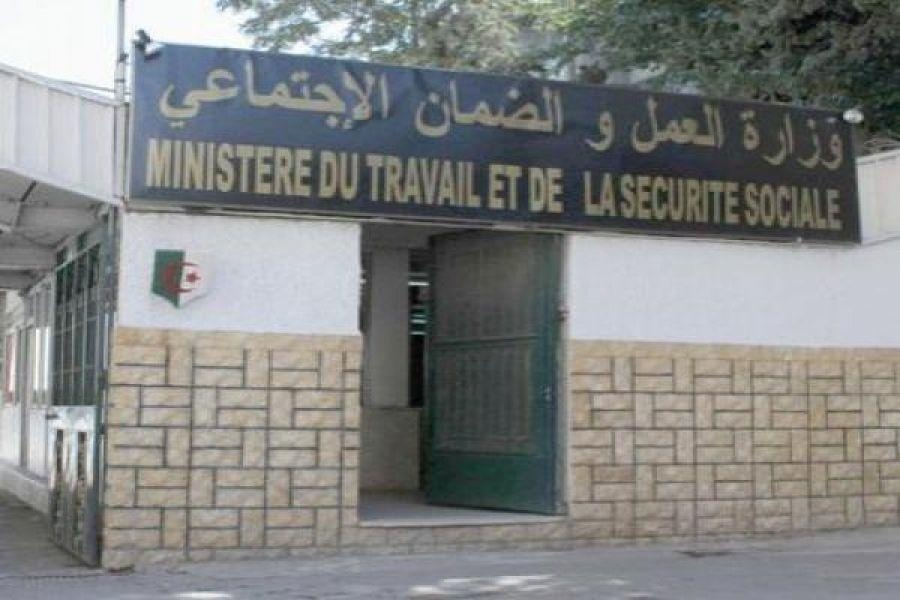text: (161, 52, 176, 135), (177, 52, 192, 135), (193, 52, 208, 135), (209, 52, 224, 135), (225, 52, 240, 135), (241, 52, 256, 135), (257, 52, 272, 135), (273, 52, 288, 135), (289, 52, 304, 135), (305, 52, 320, 135), (321, 52, 336, 135), (337, 52, 352, 135), (353, 52, 368, 135), (369, 52, 384, 135), (417, 72, 432, 139), (433, 72, 448, 139), (449, 72, 464, 139), (465, 72, 480, 139), (481, 72, 496, 139), (497, 72, 512, 139), (513, 72, 528, 139), (529, 72, 544, 139), (545, 72, 560, 139), (145, 135, 160, 201), (161, 135, 176, 201), (177, 135, 192, 201), (193, 135, 208, 201), (209, 135, 224, 201), (225, 135, 240, 201), (241, 135, 256, 201), (257, 135, 272, 201), (273, 135, 288, 201), (289, 135, 304, 201), (737, 107, 752, 173), (753, 107, 768, 173), (769, 107, 784, 173), (785, 107, 800, 173), (801, 107, 816, 173), (817, 107, 832, 173), (833, 107, 848, 173), (641, 94, 656, 157), (657, 94, 672, 157), (673, 94, 688, 157), (689, 94, 704, 157), (705, 94, 720, 157), (385, 52, 395, 135), (625, 171, 640, 226), (641, 171, 656, 226), (657, 171, 672, 226), (673, 171, 688, 226), (689, 171, 704, 226), (705, 171, 720, 226), (721, 171, 736, 226), (369, 153, 384, 207), (385, 153, 400, 207), (401, 153, 416, 207), (417, 153, 432, 207), (433, 153, 448, 207), (449, 153, 464, 207), (465, 153, 480, 207), (529, 165, 544, 218), (545, 165, 560, 218), (833, 184, 849, 233), (497, 160, 512, 212), (321, 151, 336, 203), (337, 151, 352, 203), (753, 184, 768, 233), (769, 184, 784, 233), (785, 184, 800, 233), (801, 184, 816, 233), (817, 184, 832, 233), (305, 135, 316, 201), (593, 170, 608, 218), (629, 94, 640, 157), (593, 110, 608, 152), (513, 160, 525, 212), (561, 72, 569, 139), (486, 160, 496, 212), (582, 170, 592, 218), (737, 171, 745, 226), (609, 170, 618, 218), (609, 110, 619, 152), (744, 184, 752, 233), (617, 171, 624, 226), (721, 94, 727, 157), (353, 151, 360, 203), (412, 72, 416, 139), (364, 153, 368, 207), (561, 165, 565, 218), (587, 110, 592, 152), (733, 107, 736, 173), (481, 153, 483, 207), (526, 165, 528, 218), (318, 151, 320, 203)
